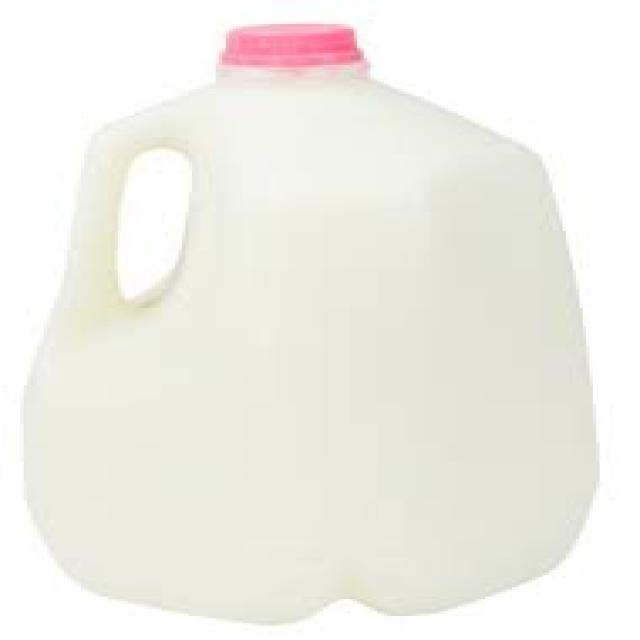plastic: (17, 19, 596, 626), (216, 22, 367, 67)
